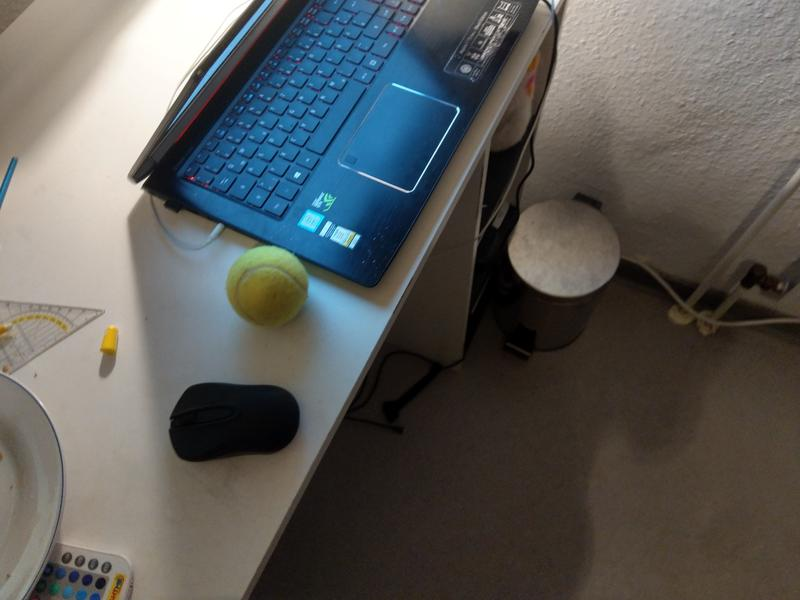Tennisball: (224, 241, 310, 332)
